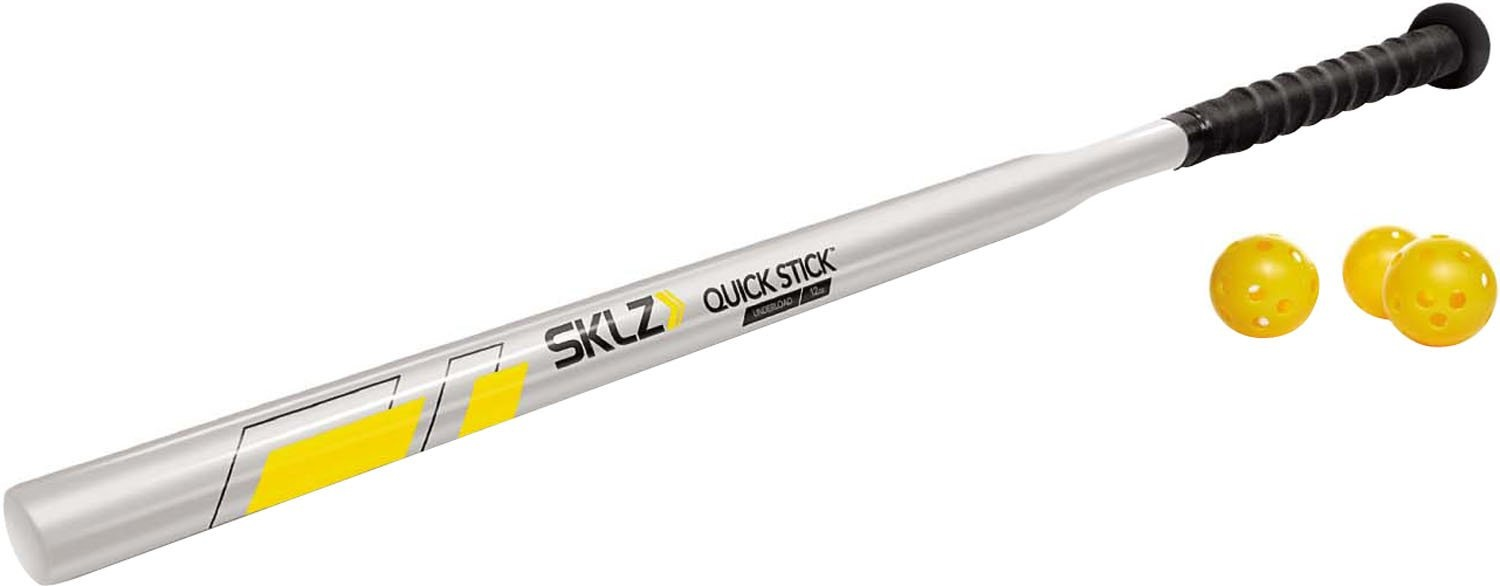bita: (9, 7, 1478, 581)
